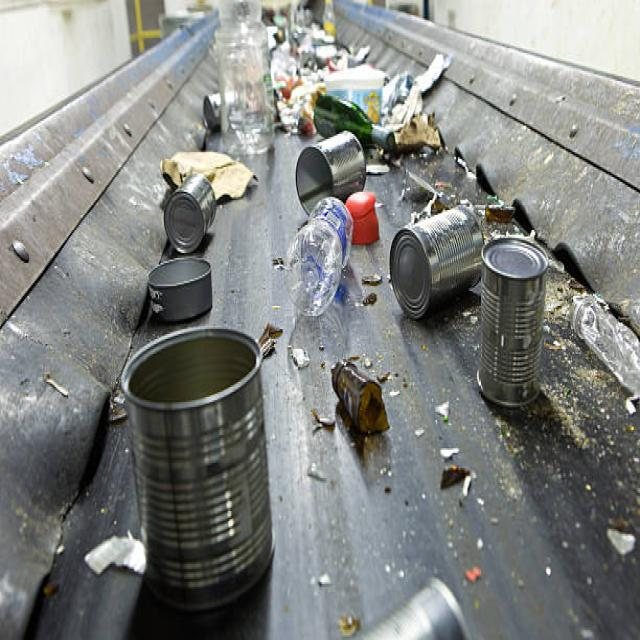cardboard: (163, 152, 253, 177)
metal: (126, 339, 290, 599), (480, 242, 554, 415), (399, 220, 477, 314), (157, 179, 222, 248), (295, 139, 372, 197)
